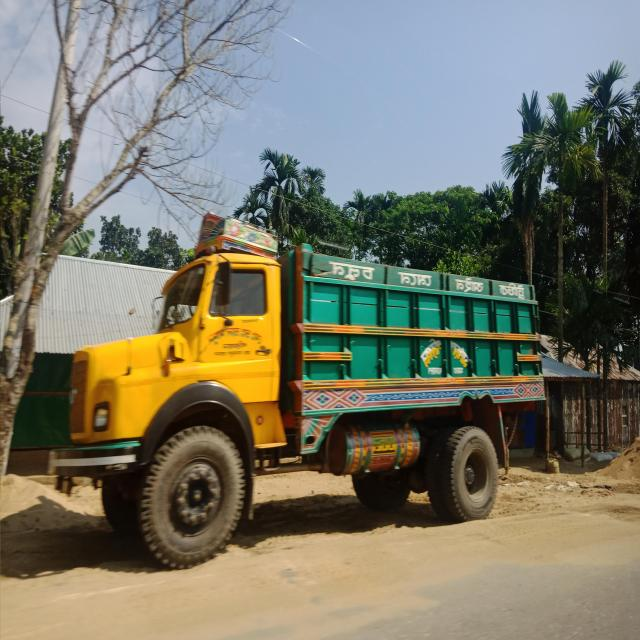truck: (71, 194, 543, 527)
